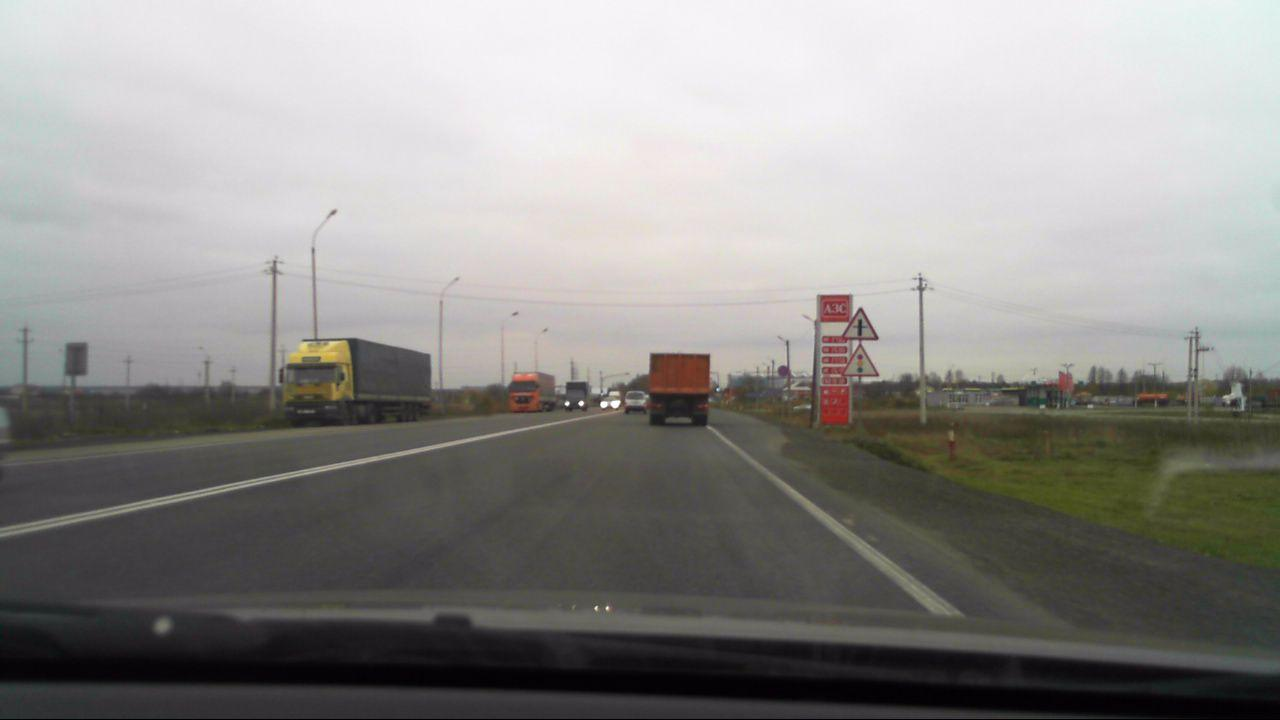1_8: (839, 343, 881, 378)
2_3_1: (841, 307, 879, 340)
